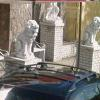Statue: (14, 8, 89, 71)
